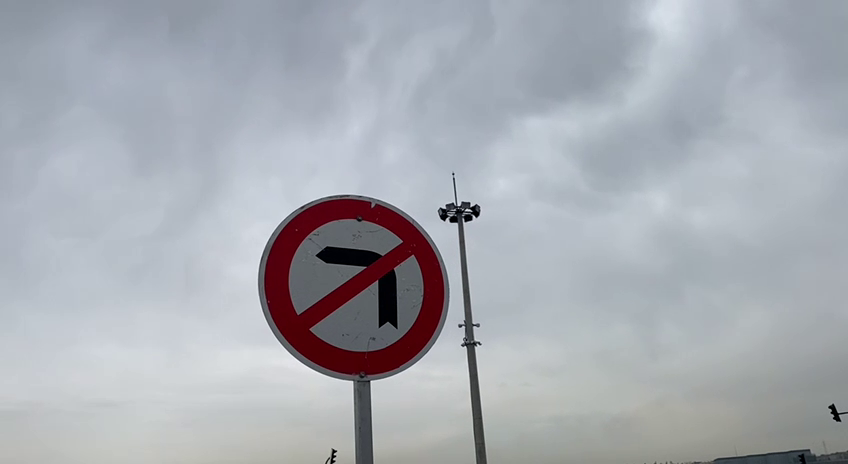noTurnLeft: (249, 181, 459, 389)
